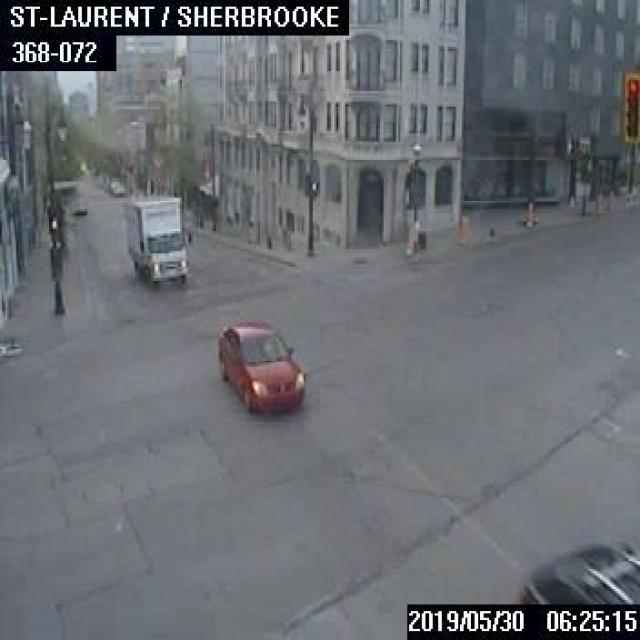construction: (402, 224, 413, 253), (455, 213, 465, 243), (522, 200, 533, 227)
vehicle: (216, 322, 304, 411), (516, 538, 638, 602), (126, 194, 186, 285), (70, 202, 86, 214), (112, 184, 124, 194)
